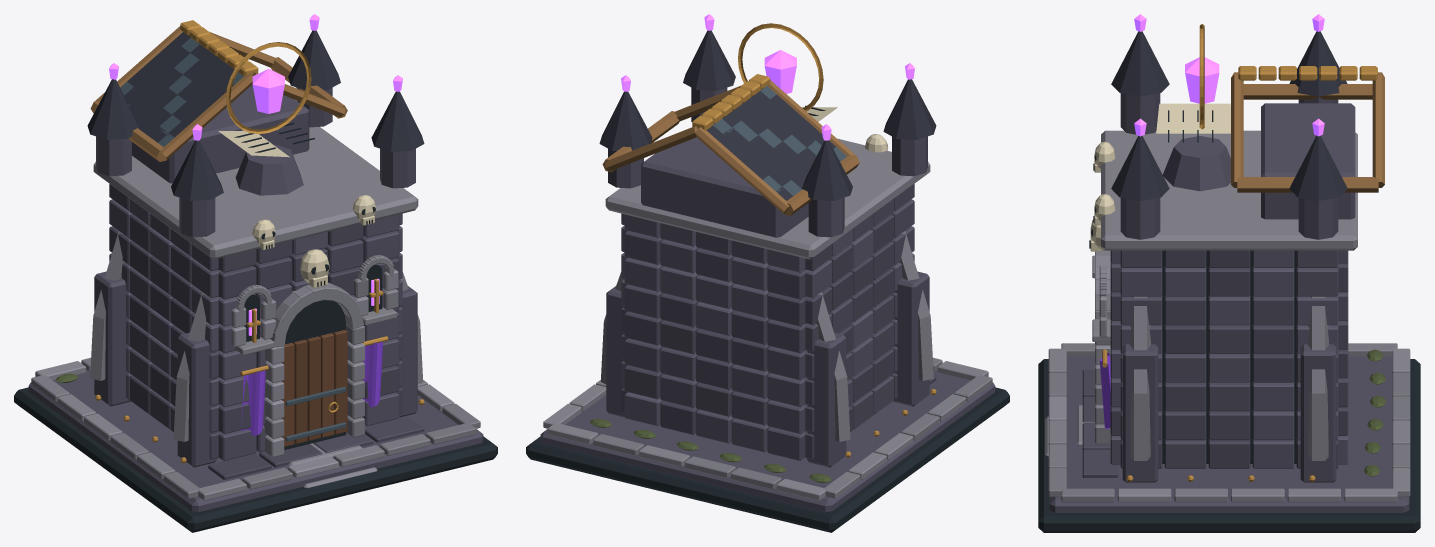
File: necro__lich__L10.glb
3 views of the same model, side by side, from view 1: azimuth 30°, elevation 25°; view 2: azimuth 150°, elevation 25°; view 3: azimuth 270°, elevation 25° (orthographic). The views are drawn at different scales.
Visible parts, largest first — view 1: structure, weapon, banners; view 2: structure, weapon; view 3: structure, weapon, banners.
Part boxes in pixels (x1,y1,x2,y2): structure: (14,14,497,532); weapon: (218,42,314,195); banners: (240,336,388,435); structure: (526,14,1009,532); weapon: (738,23,837,121); structure: (1038,14,1420,532); weapon: (1156,24,1230,191); banners: (1099,349,1110,428).
Size of the model in its own units: 0.803 by 0.9867 by 0.803.
